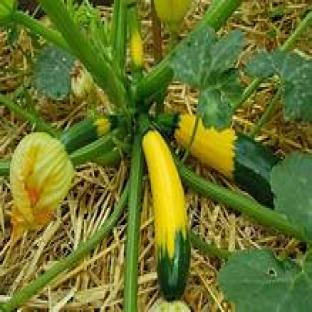Zucchini: (143, 131, 190, 300), (190, 122, 279, 206), (60, 118, 112, 153)
